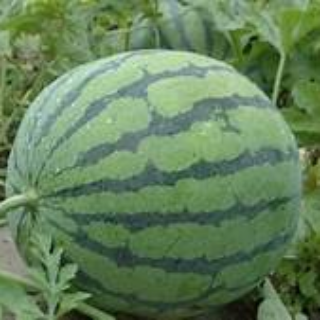dua_hau: (10, 48, 300, 316)
